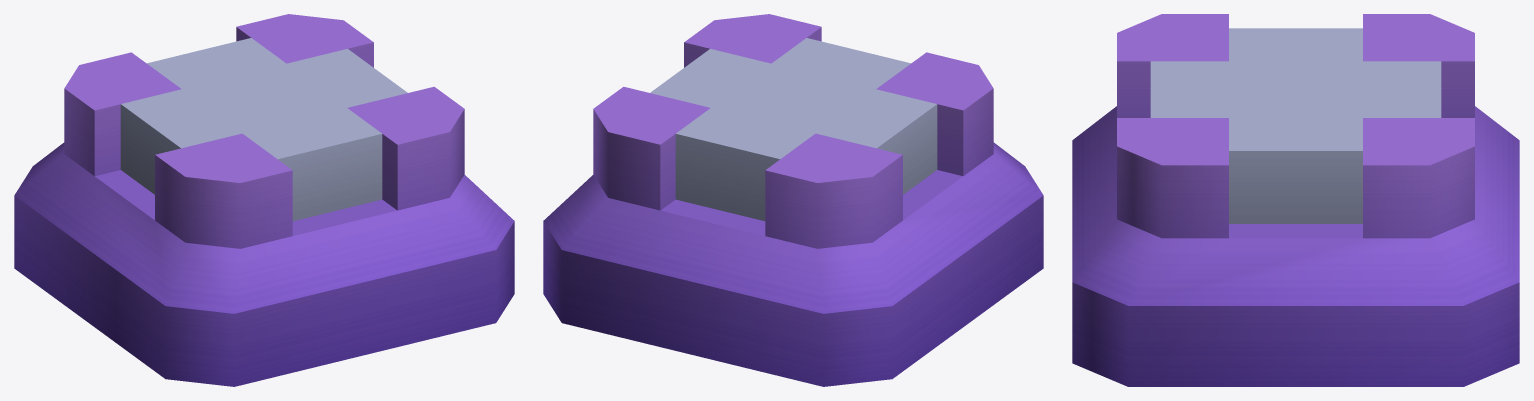
File: tower-square-bottom-c.gltf
3 renders of one model, left to right at view 1: azimuth 30°, elevation 25°; view 2: azimuth 150°, elevation 25°; view 3: azimuth 270°, elevation 25°, orthographic. The views are drawn at different scales.
Parts seen in each view (by area): view 1: tower-square-bottom-c; view 2: tower-square-bottom-c; view 3: tower-square-bottom-c.
Boxes of the visible parts, bbox=[...] form: tower-square-bottom-c: bbox=[14, 14, 514, 386]; tower-square-bottom-c: bbox=[543, 14, 1043, 386]; tower-square-bottom-c: bbox=[1072, 14, 1519, 386].
Bounding box in the file's own units: 1 × 0.5 × 1.
Materials: 1 (1 with a texture image).
